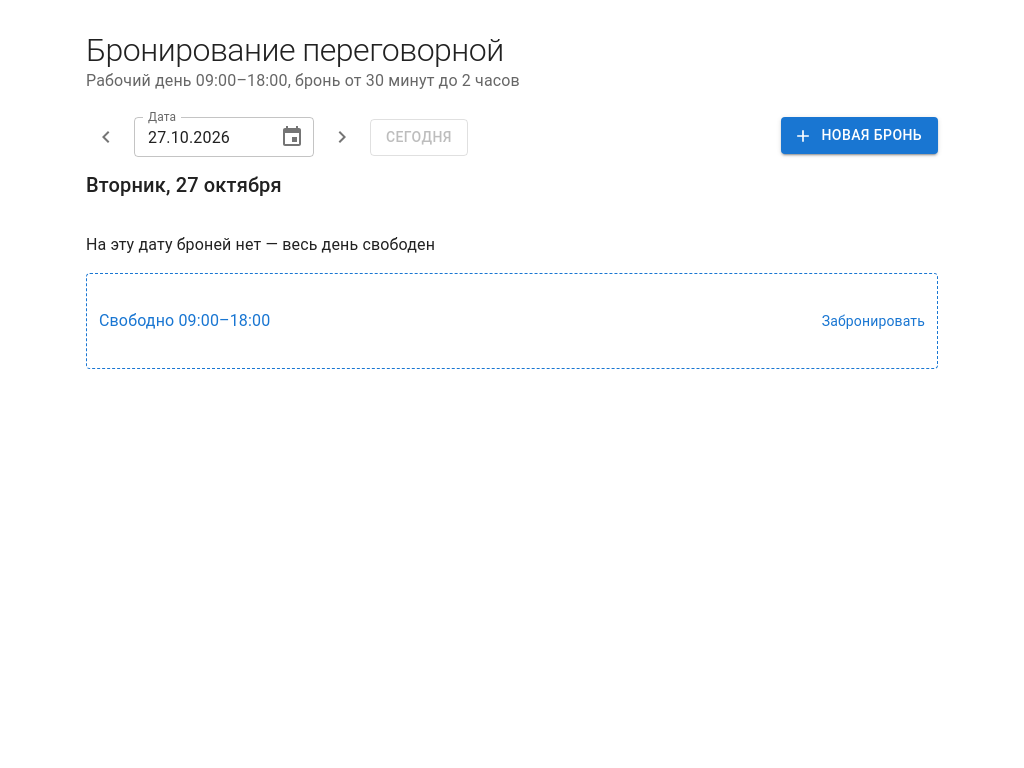
Scenario: App integration › creates a booking from a free slot
Click the button with aria-label "Свободно 09:00–18:00, забронировать" at (139,321), box [86,273,938,369]
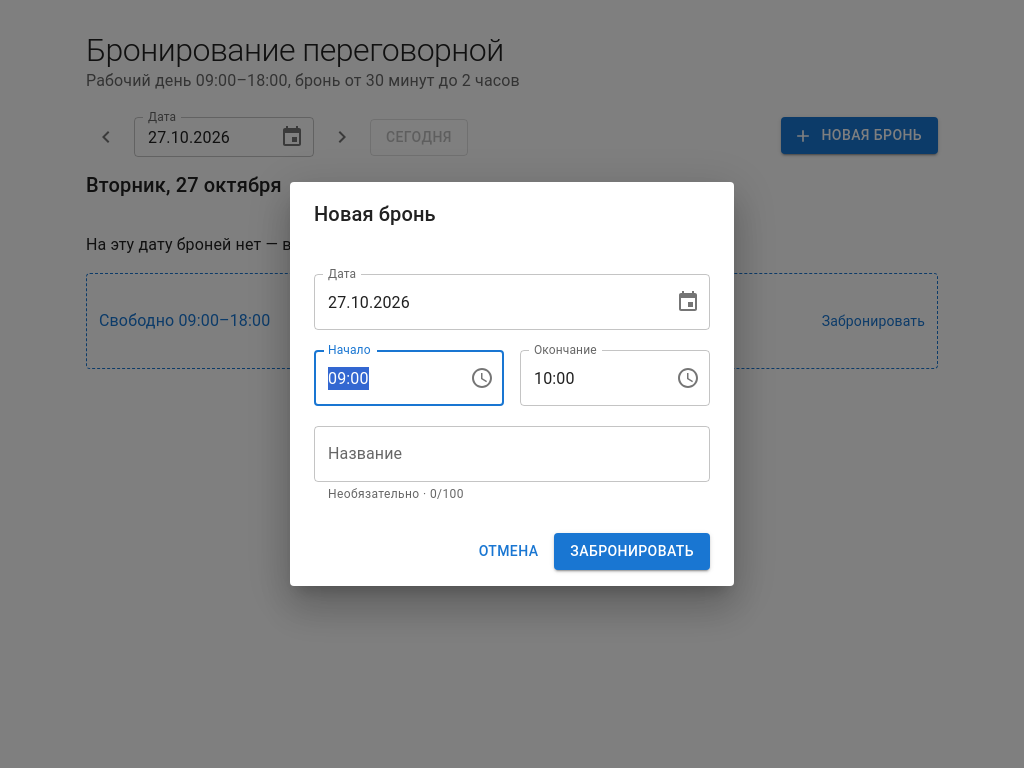
Expected: the field labelled "Начало" holds "09:00", [314,350,454,406]
Expected: the field labelled "Окончание" holds "10:00", [520,350,660,406]
Type "Планирование" into the field labelled "Название" at (512,454), box [314,426,710,482]
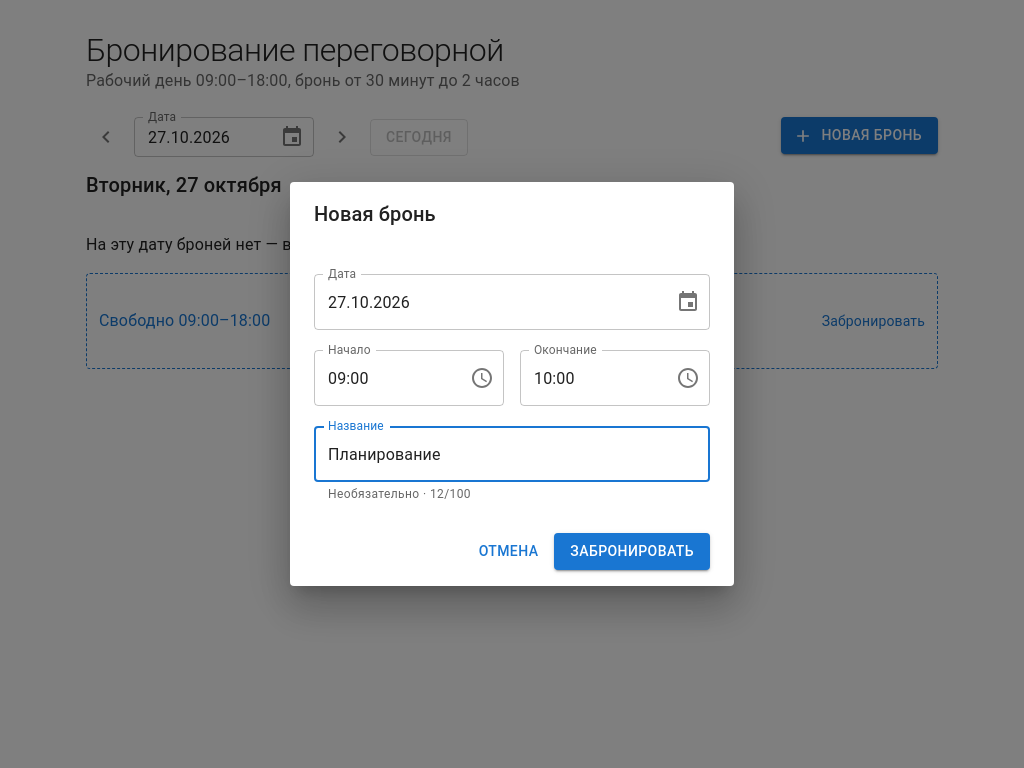
Click the button "Забронировать" at (632,551), box [554,533,710,570]
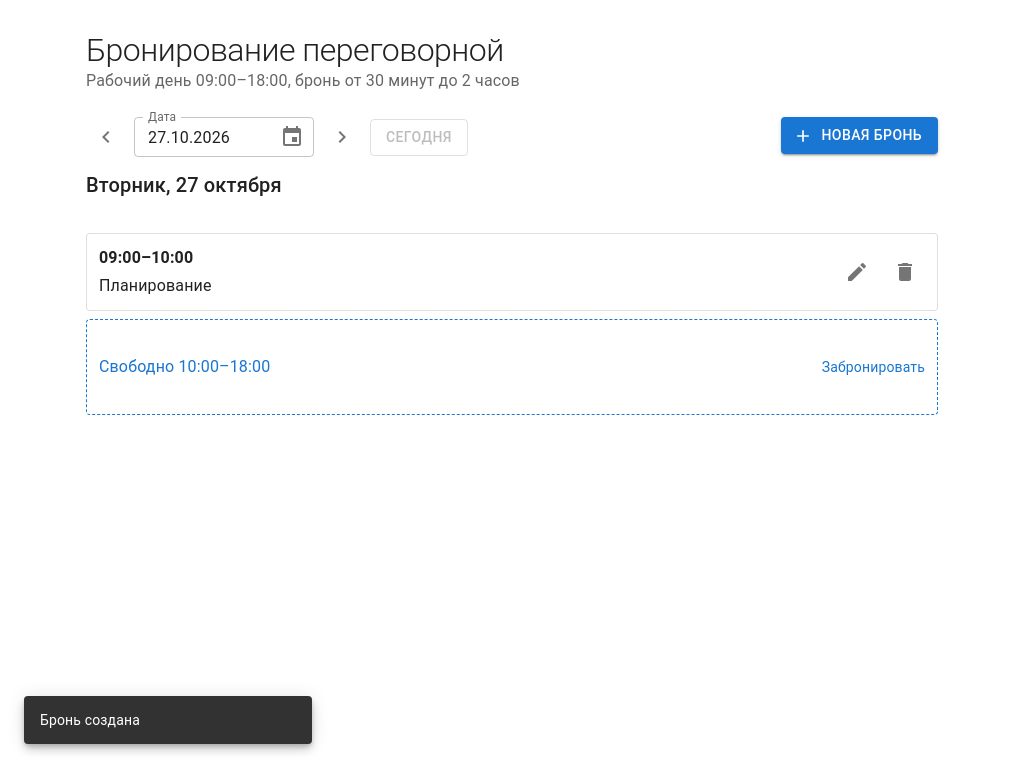
Expected: the text "Бронь создана" is shown, [40,712,140,728]
Expected: the button named "Изменить бронь 09:00–10:00" is shown, [837,252,877,292]
Expected: the text "Планирование" is shown, [99,276,212,295]
